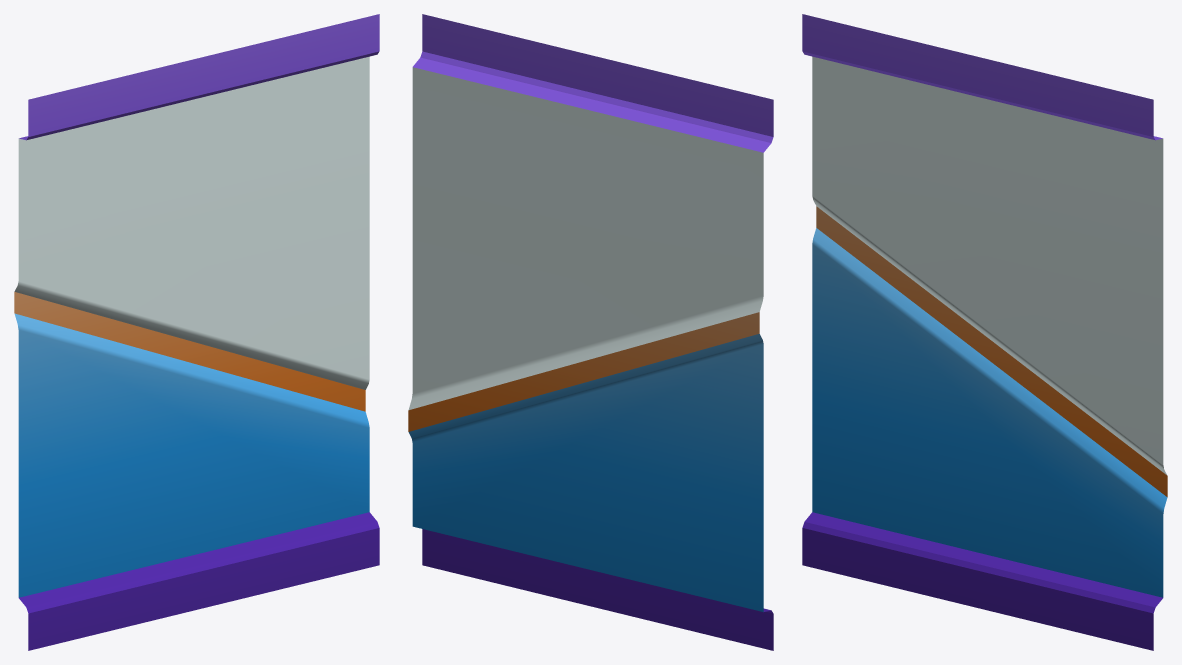
The model's file is SM_Factory_Wall_02.fbx.
3 views of the same model, side by side, from view 1: azimuth 30°, elevation 25°; view 2: azimuth 150°, elevation 25°; view 3: azimuth 330°, elevation 25° (orthographic).
Parts seen in each view (by area): view 1: polySurface8; view 2: polySurface8; view 3: polySurface8.
Part boxes in pixels (left/top/right/bottom): polySurface8: left=14, top=14, right=379, bottom=650; polySurface8: left=408, top=14, right=773, bottom=650; polySurface8: left=802, top=14, right=1167, bottom=650.
Bounding box in the file's own units: 200 × 13.65 × 300.
